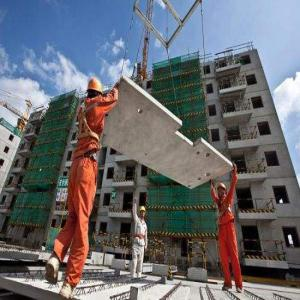red: (217, 182, 228, 199)
yellow: (88, 76, 104, 102), (140, 206, 147, 220)
